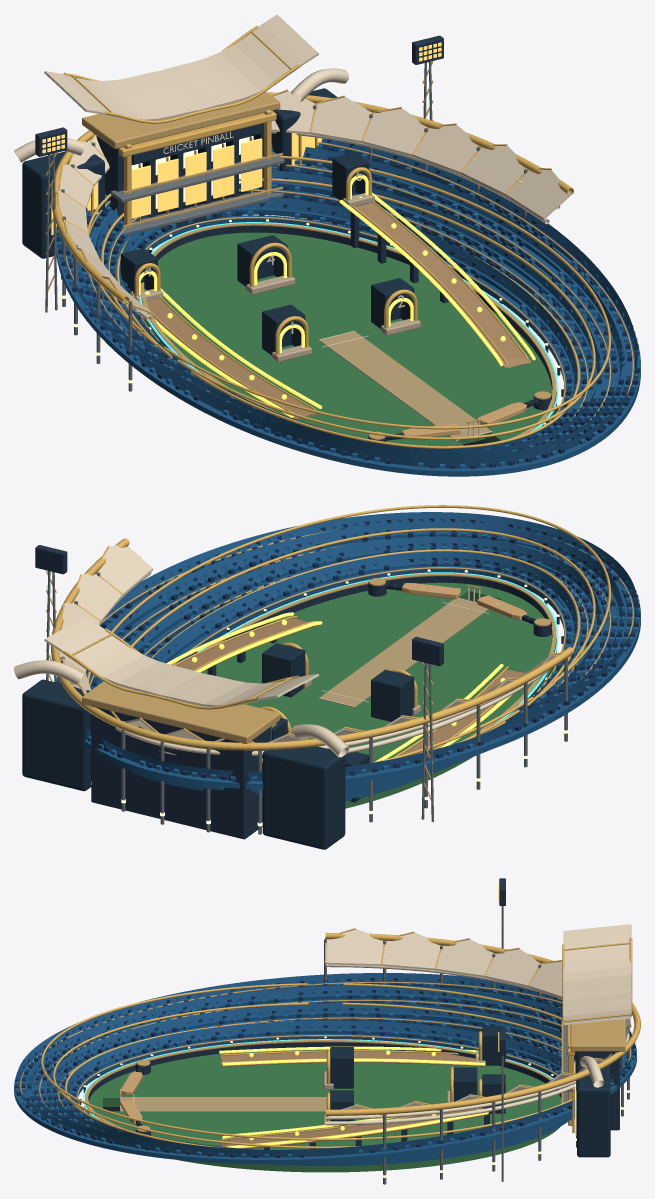
Rendered from cricket-stadium-colosseum-r7.glb.
3 renders of one model, top to bottom at view 1: azimuth 30°, elevation 25°; view 2: azimuth 150°, elevation 25°; view 3: azimuth 270°, elevation 25°, orthographic. The views are drawn at different scales.
Parts seen in each view (by area): view 1: Arena_Field_Substrate, Pavilion_Sculpted_Canopy, Individual_Seats_0, Individual_Seats_1, Crowd_Band_09, Seating_Terrace_09, Crowd_Band_04, Crowd_Band_07, Crowd_Band_01, Measured_Pitch, R7_Six_Lane_Surface, Pavilion_Cornice (+52 smaller); view 2: Arena_Field_Substrate, Pavilion_Shell, Crowd_Band_09, Pavilion_Sculpted_Canopy, R7_Pavilion_Wing_Mass_-1, Individual_Seats_1, Individual_Seats_0, R7_Pavilion_Wing_Mass_1, Crowd_Band_07, Crowd_Band_04, R7_Upper_Fascia_2, Pavilion_Cornice (+38 smaller); view 3: Arena_Field_Substrate, Crowd_Band_09, Pavilion_Sculpted_Canopy, Crowd_Band_07, Individual_Seats_0, Crowd_Band_04, Individual_Seats_1, Seating_Terrace_09, Crowd_Band_01, R7_Upper_Fascia_2, R7_Tier_Rail_2, Measured_Pitch (+39 smaller).
Boxes of the visible parts, bbox=[...] form: Arena_Field_Substrate: bbox=[142, 232, 556, 446]; Pavilion_Sculpted_Canopy: bbox=[44, 14, 318, 120]; Individual_Seats_0: bbox=[56, 141, 639, 469]; Individual_Seats_1: bbox=[56, 139, 639, 469]; Crowd_Band_09: bbox=[59, 138, 637, 468]; Seating_Terrace_09: bbox=[56, 144, 640, 476]; Crowd_Band_04: bbox=[97, 170, 599, 455]; Crowd_Band_07: bbox=[78, 143, 622, 459]; Crowd_Band_01: bbox=[119, 197, 576, 451]; Measured_Pitch: bbox=[319, 331, 491, 440]; R7_Six_Lane_Surface: bbox=[352, 202, 531, 367]; Pavilion_Cornice: bbox=[82, 92, 280, 148]; Arena_Field_Substrate: bbox=[201, 582, 556, 808]; Pavilion_Shell: bbox=[91, 706, 271, 839]; Crowd_Band_09: bbox=[59, 512, 637, 780]; Pavilion_Sculpted_Canopy: bbox=[44, 617, 318, 706]; R7_Pavilion_Wing_Mass_-1: bbox=[262, 746, 345, 849]; Individual_Seats_1: bbox=[56, 518, 640, 781]; Individual_Seats_0: bbox=[57, 518, 640, 781]; R7_Pavilion_Wing_Mass_1: bbox=[22, 679, 91, 791]; Crowd_Band_07: bbox=[106, 522, 622, 730]; Crowd_Band_04: bbox=[102, 536, 599, 735]; R7_Upper_Fascia_2: bbox=[51, 538, 573, 750]; Pavilion_Cornice: bbox=[82, 681, 280, 743]; Arena_Field_Substrate: bbox=[84, 1049, 561, 1172]; Crowd_Band_09: bbox=[16, 973, 634, 1157]; Pavilion_Sculpted_Canopy: bbox=[563, 924, 631, 1025]; Crowd_Band_07: bbox=[29, 985, 620, 1149]; Individual_Seats_0: bbox=[15, 978, 635, 1158]; Crowd_Band_04: bbox=[48, 1002, 561, 1149]; Individual_Seats_1: bbox=[15, 978, 635, 1157]; Seating_Terrace_09: bbox=[14, 983, 636, 1164]; Crowd_Band_01: bbox=[67, 1020, 561, 1149]; R7_Upper_Fascia_2: bbox=[325, 932, 640, 1115]; R7_Tier_Rail_2: bbox=[41, 983, 574, 1140]; Measured_Pitch: bbox=[120, 1097, 326, 1111].
Bounding box in the file's own units: 11.2 × 4.56 × 16.51.
